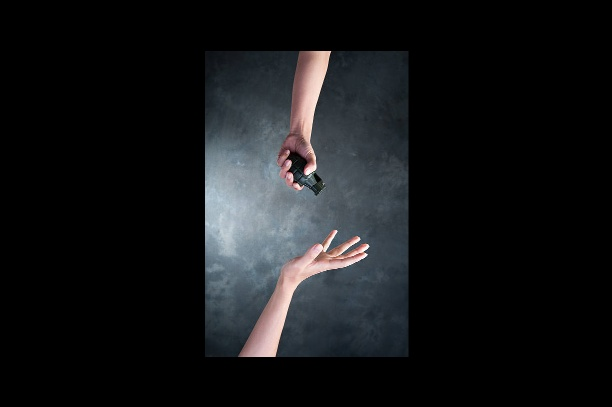e1: (277, 145, 327, 195)
